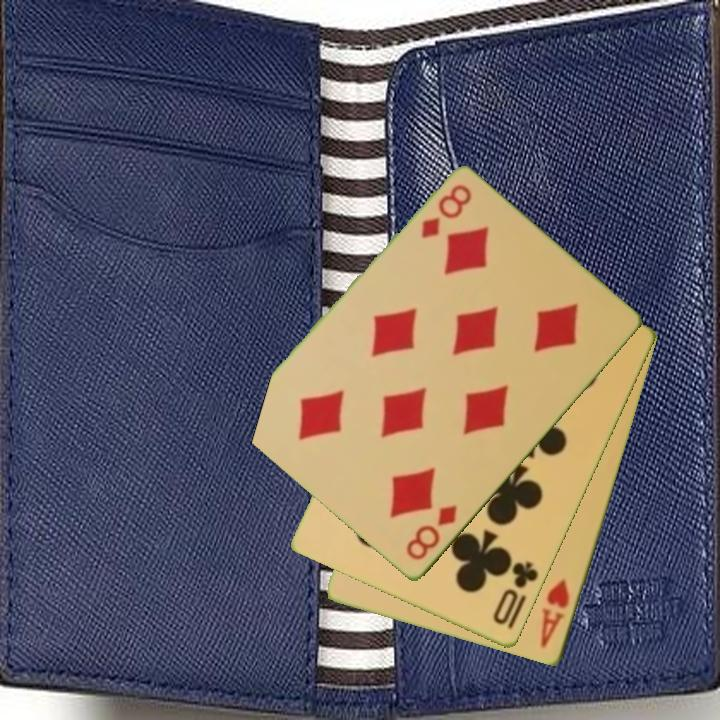10c: (489, 558, 542, 629)
8d: (402, 502, 461, 564), (417, 181, 475, 242)
Ah: (537, 576, 573, 652)
